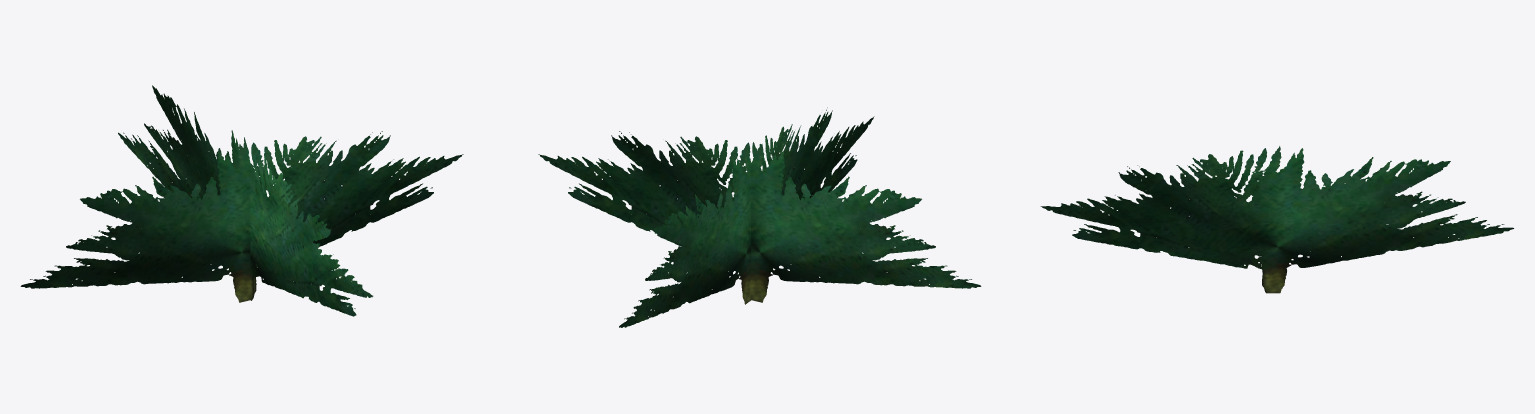
The model's file is fern_medfern_blue_l1.fbx.
The picture shows the model from 3 angles, left to right: view 1: azimuth 30°, elevation 25°; view 2: azimuth 150°, elevation 25°; view 3: azimuth 270°, elevation 25°; orthographic projection. The views are drawn at different scales.
Parts seen in each view (by area): view 1: mesh_node; view 2: mesh_node; view 3: mesh_node.
Boxes of the visible parts, bbox=[...] form: mesh_node: bbox=[20, 85, 463, 316]; mesh_node: bbox=[538, 107, 981, 327]; mesh_node: bbox=[1040, 146, 1513, 293].
Bounding box in the file's own units: 5 × 1.89 × 5.
